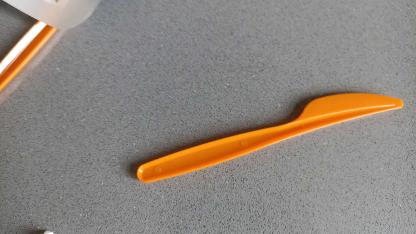Others: (136, 92, 404, 184)
